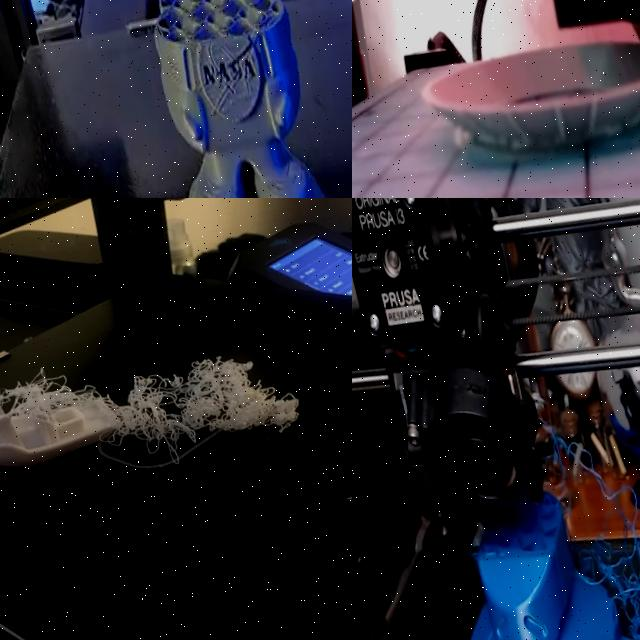spaghetti: (0, 315, 333, 513)
